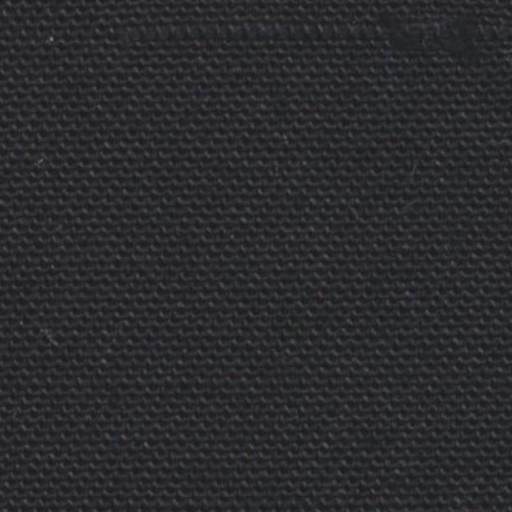DaiSha: (80, 7, 432, 62)
